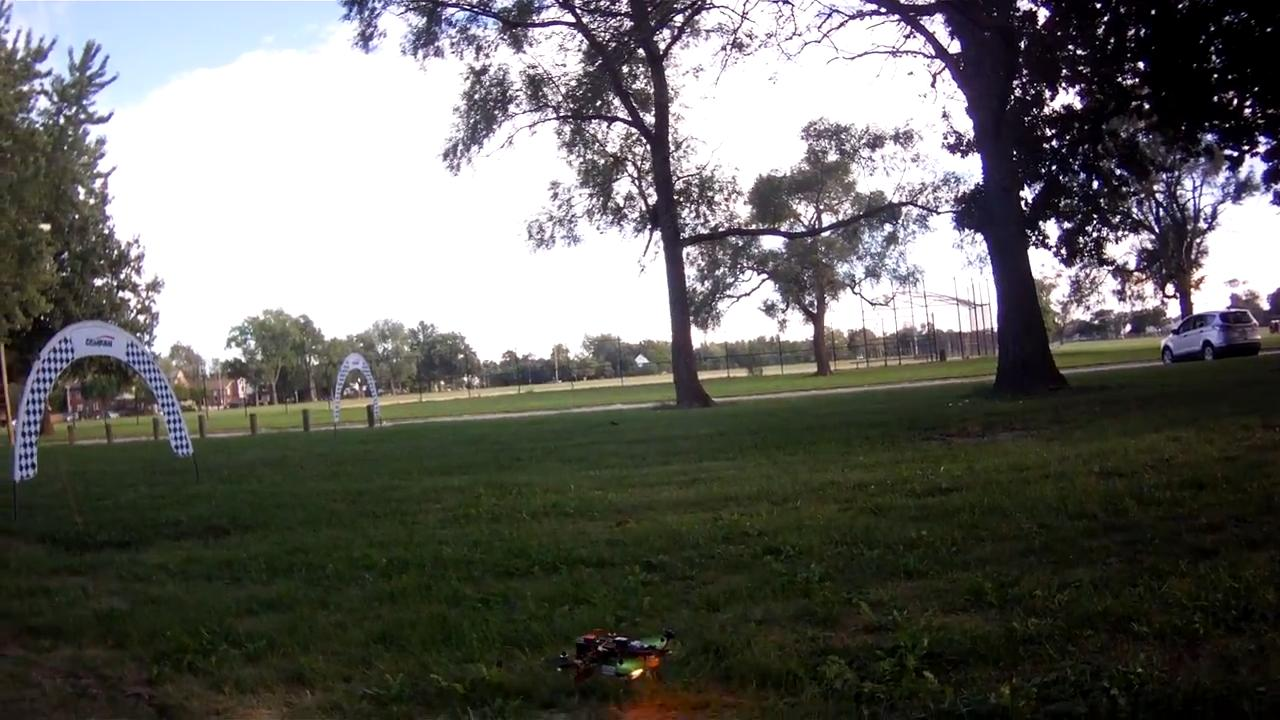gate: (3, 317, 194, 491), (322, 350, 383, 424)
